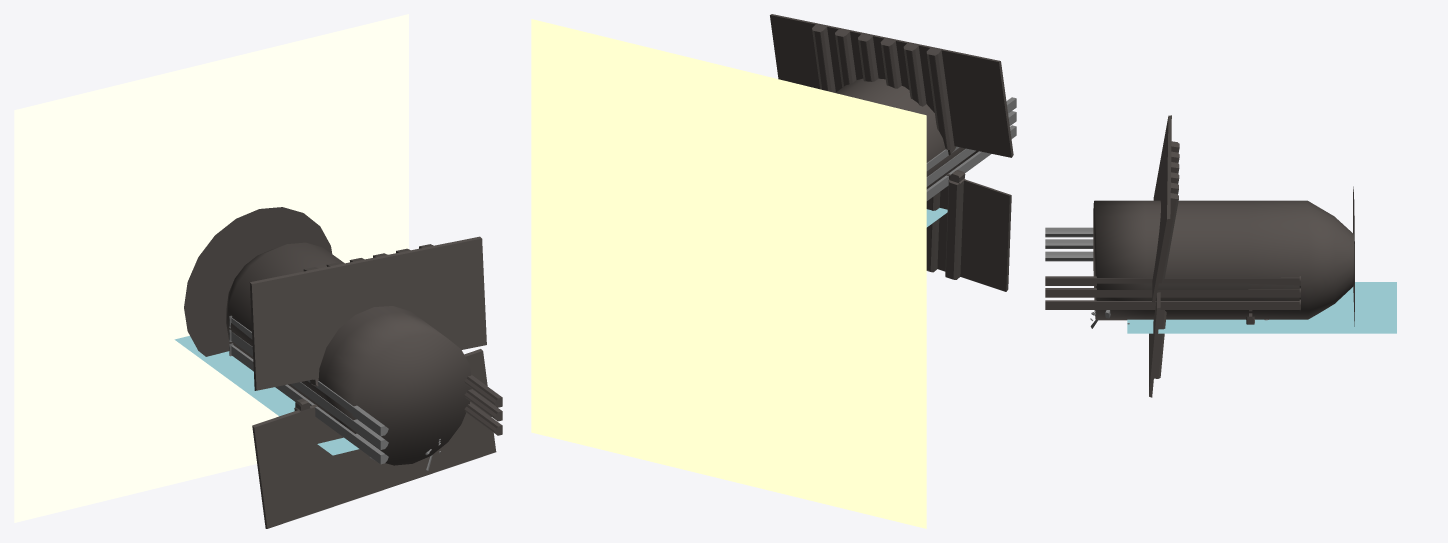
The model's file is Scrapyard.fbx.
3 views of the same model, side by side, from view 1: azimuth 30°, elevation 25°; view 2: azimuth 150°, elevation 25°; view 3: azimuth 270°, elevation 25° (orthographic). The views are drawn at different scales.
Parts seen in each view (by area): view 1: Outside, ShipDoors, Great_Tunnel, UpperWaterFloor, Hallways.002, Hallways, Hallways.001; view 2: Outside, ShipDoors, Great_Tunnel, Hallways.002, Hallways; view 3: Great_Tunnel, UpperWaterFloor, ShipDoors, Hallways.002, Hallways, Hallways.001.
Boxes of the visible parts, x1,y1,x2,y2 form: Outside: (14,14,408,522); ShipDoors: (249,236,496,528); Great_Tunnel: (184,207,471,465); UpperWaterFloor: (174,336,358,455); Hallways.002: (229,343,502,464); Hallways: (229,329,502,449); Hallways.001: (229,315,502,436); Outside: (531,19,926,528); ShipDoors: (770,14,1013,291); Great_Tunnel: (835,78,978,189); Hallways.002: (926,125,1016,200); Hallways: (926,111,1016,186); Great_Tunnel: (1093,186,1354,326); UpperWaterFloor: (1127,282,1396,333); ShipDoors: (1149,115,1179,397); Hallways.002: (1045,251,1300,311); Hallways: (1045,239,1300,299); Hallways.001: (1045,227,1300,287).
Bounding box in the file's own units: 195071 × 195071 × 195353.
